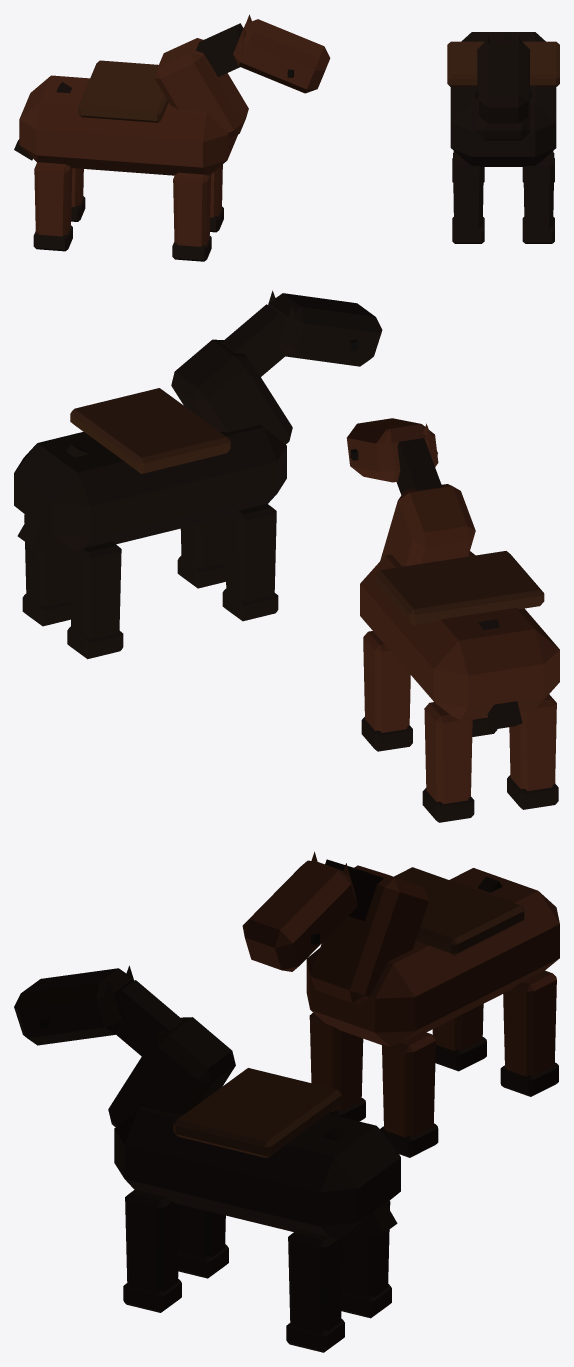
File: wild_horses.obj
The picture shows the model from 3 angles, top to bottom: view 1: azimuth 30°, elevation 25°; view 2: azimuth 150°, elevation 25°; view 3: azimuth 270°, elevation 25°; orthographic projection. The views are drawn at different scales.
Parts seen in each view (by area): view 1: core_horse, core_horse_dark, core_leather; view 2: core_horse_dark, core_horse, core_leather; view 3: core_horse_dark, core_horse, core_leather.
Part boxes in pixels (x1,y1,x2,y2): core_horse: [19, 14, 330, 246]; core_horse_dark: [14, 23, 556, 261]; core_leather: [78, 41, 559, 122]; core_horse_dark: [14, 290, 558, 822]; core_horse: [346, 418, 559, 803]; core_leather: [70, 388, 544, 625]; core_horse_dark: [14, 859, 558, 1352]; core_horse: [242, 851, 559, 1137]; core_leather: [173, 867, 524, 1158].
Bounding box in the file's own units: 0.5816 × 0.2625 × 0.4351.
